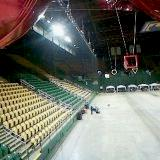Orange_Circle_GShape: (110, 68, 118, 76)
Orange_Square_GShape: (123, 55, 138, 70)
Purple_Balloon: (97, 70, 102, 76)
